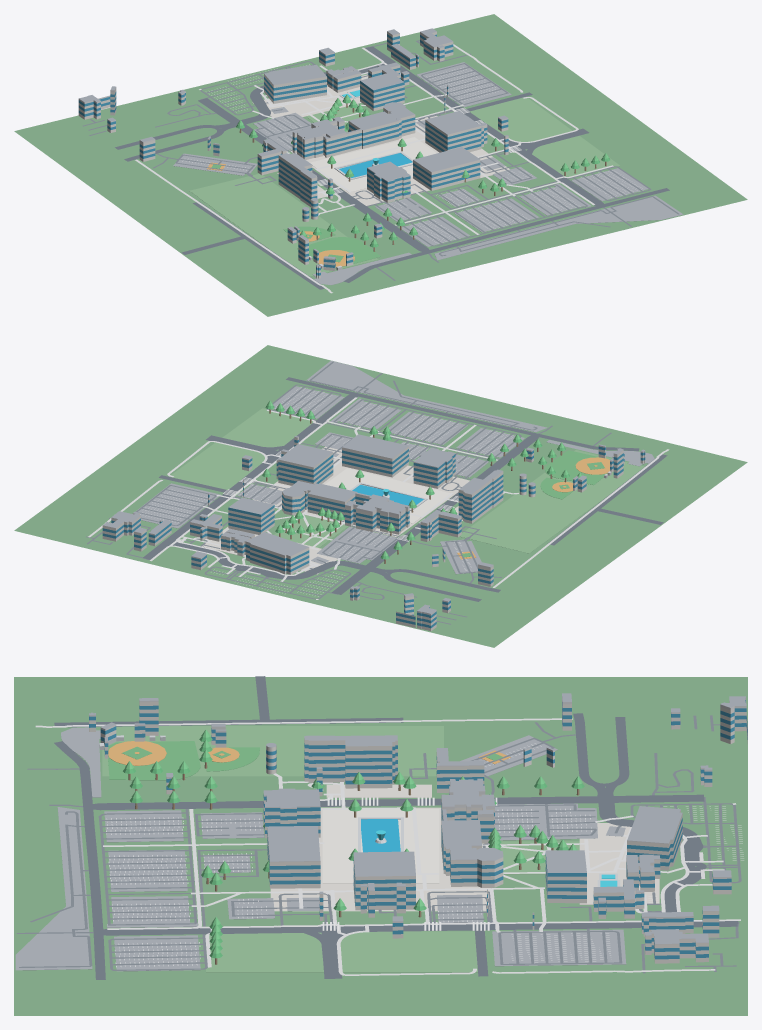
Rendered from mdc_north_campus_osm.glb.
3 views of the same model, one above another, from view 1: azimuth 30°, elevation 25°; view 2: azimuth 150°, elevation 25°; view 3: azimuth 270°, elevation 25° (orthographic). The views are drawn at different scales.
Parts seen in each view (by area): view 1: map.osm_ground_base, map.osm_buildings, map.osm_parking_lots, map.osm_quad_lawns, map.osm_roads_service, map.osm_roads_unclassified, map.osm_paths_footway, map.osm_pedestrian_plazas, map.osm_lakeside_promenade, map.osm_roads_tertiary, map.osm_baseball_outfield, map.osm_parking_stalls (+5 smaller); view 2: map.osm_ground_base, map.osm_buildings, map.osm_parking_lots, map.osm_quad_lawns, map.osm_roads_service, map.osm_roads_unclassified, map.osm_paths_footway, map.osm_pedestrian_plazas, map.osm_lakeside_promenade, map.osm_baseball_outfield, map.osm_tree_canopy_dk, map.osm_roads_tertiary (+6 smaller); view 3: map.osm_ground_base, map.osm_buildings, map.osm_parking_lots, map.osm_quad_lawns, map.osm_roads_service, map.osm_roads_unclassified, map.osm_paths_footway, map.osm_pedestrian_plazas, map.osm_lakeside_promenade, map.osm_baseball_outfield, map.osm_parking_stalls, map.osm_roads_tertiary (+9 smaller).
Boxes of the visible parts, x1,y1,x2,y2 form: map.osm_ground_base: (14,14,747,316); map.osm_buildings: (78,28,508,278); map.osm_parking_lots: (173,62,683,285); map.osm_quad_lawns: (189,98,620,276); map.osm_roads_service: (82,40,679,280); map.osm_roads_unclassified: (198,46,604,253); map.osm_paths_footway: (135,44,613,293); map.osm_pedestrian_plazas: (252,74,509,205); map.osm_lakeside_promenade: (310,137,436,191); map.osm_roads_tertiary: (343,188,669,282); map.osm_baseball_outfield: (211,164,380,268); map.osm_parking_stalls: (182,64,643,243); map.osm_ground_base: (14,345,747,647); map.osm_buildings: (102,434,645,631); map.osm_parking_lots: (136,360,654,574); map.osm_quad_lawns: (169,408,644,553); map.osm_roads_service: (86,362,611,624); map.osm_roads_unclassified: (143,393,539,594); map.osm_paths_footway: (88,397,669,599); map.osm_pedestrian_plazas: (202,446,469,574); map.osm_lakeside_promenade: (325,468,450,523); map.osm_baseball_outfield: (462,450,610,557); map.osm_tree_canopy_dk: (262,405,569,559); map.osm_roads_tertiary: (286,377,639,451); map.osm_ground_base: (14,677,747,1015); map.osm_buildings: (89,693,747,963); map.osm_parking_lots: (15,727,626,971); map.osm_quad_lawns: (102,726,579,972); map.osm_roads_service: (16,715,741,973); map.osm_roads_unclassified: (87,785,738,978); map.osm_paths_footway: (35,718,740,975); map.osm_pedestrian_plazas: (270,784,659,911); map.osm_lakeside_promenade: (322,809,439,883); map.osm_baseball_outfield: (108,741,503,780); map.osm_parking_stalls: (106,743,743,967); map.osm_roads_tertiary: (54,741,105,979).
Size of the model in its own units: 23.6 by 1.39 by 21.6.
